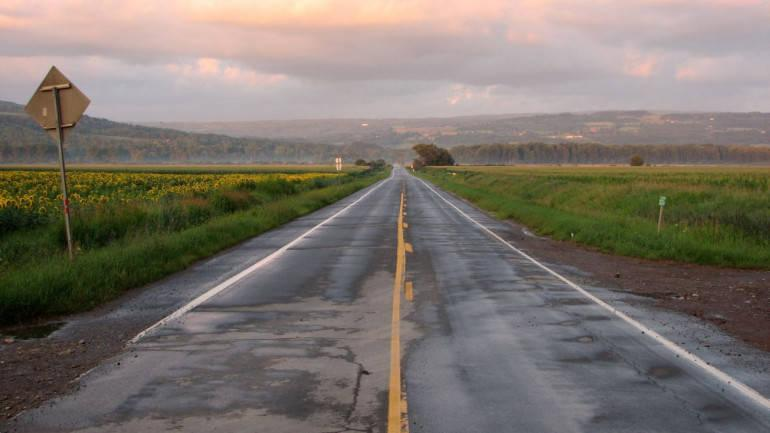streetPlate: (27, 60, 99, 268)
